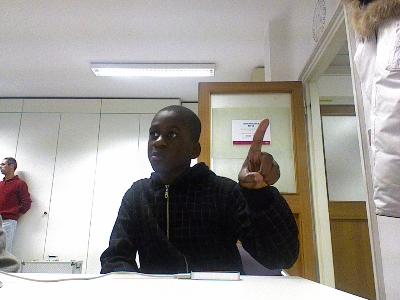食指: (237, 117, 280, 191)
